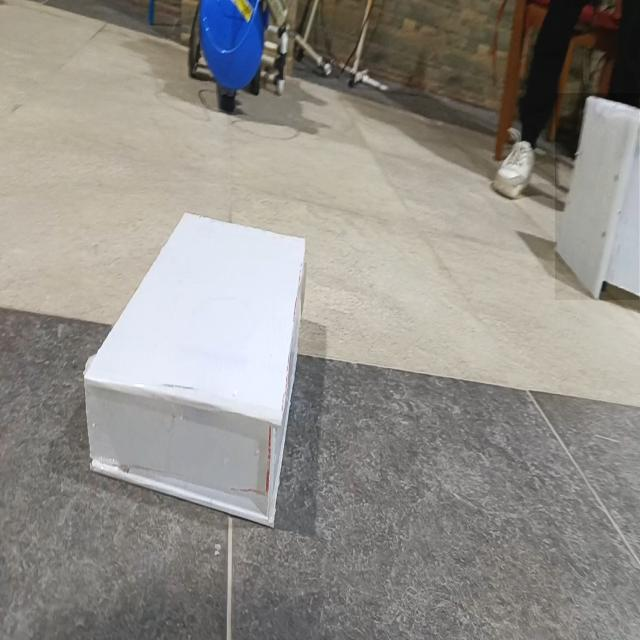Cube: (555, 93, 639, 300)
Cuboid: (82, 209, 306, 529)
